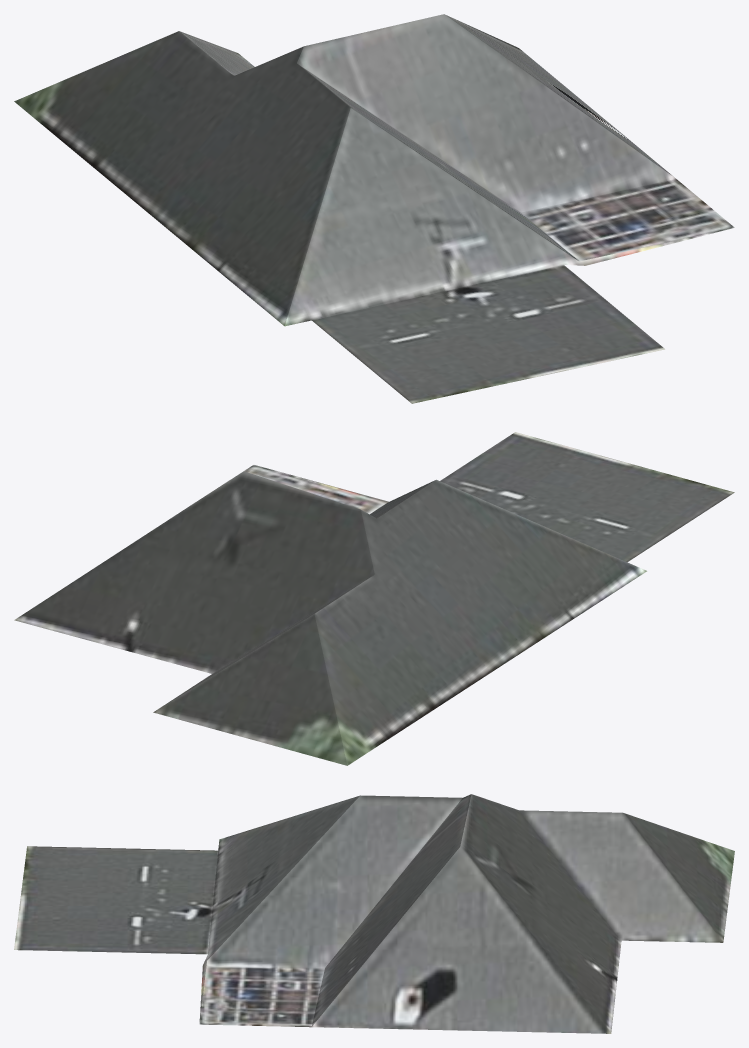
The model's file is CG10_500_038070_0017_roof.obj.
3 views of the same model, one above another, from view 1: azimuth 30°, elevation 25°; view 2: azimuth 150°, elevation 25°; view 3: azimuth 270°, elevation 25° (orthographic). The views are drawn at different scales.
Visible parts, largest first — view 1: CG10_500_038070_0017_roof; view 2: CG10_500_038070_0017_roof; view 3: CG10_500_038070_0017_roof.
Boxes of the visible parts, x1,y1,x2,y2 form: CG10_500_038070_0017_roof: [14, 14, 734, 403]; CG10_500_038070_0017_roof: [14, 432, 734, 765]; CG10_500_038070_0017_roof: [14, 794, 734, 1033].
Size of the model in its own units: 246 by 71.81 by 385.
Materials: 1 (1 with a texture image).
